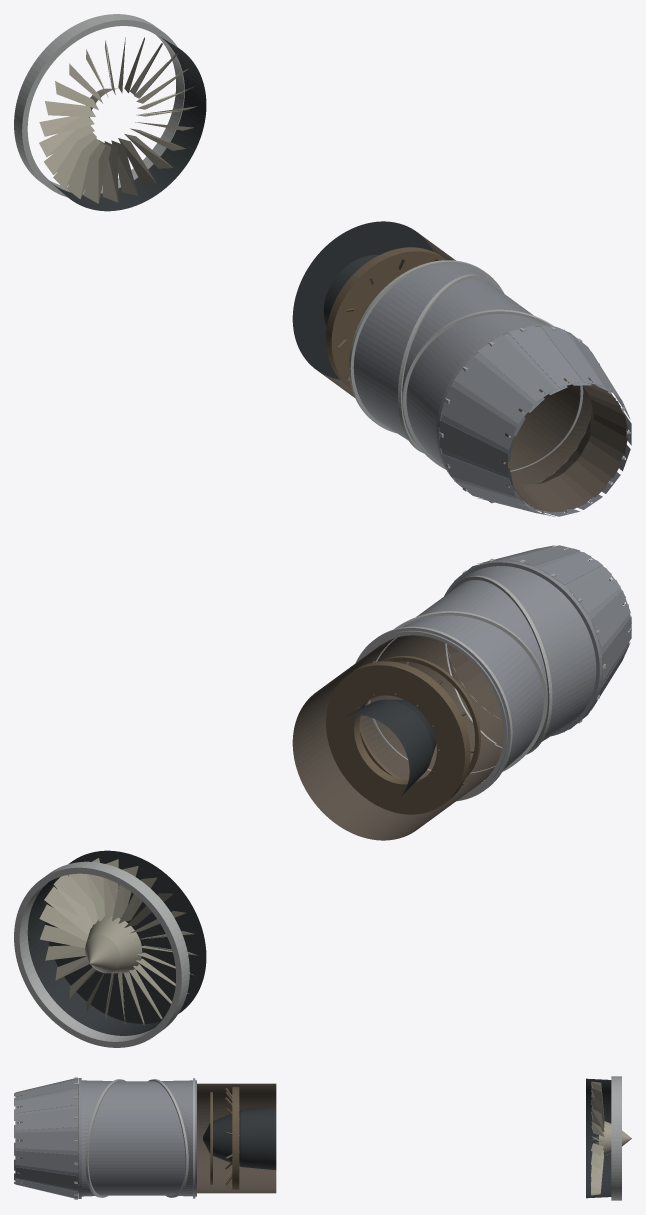
Rendered from F135-PW-600-installed.glb.
3 renders of one model, top to bottom at view 1: azimuth 30°, elevation 25°; view 2: azimuth 150°, elevation 25°; view 3: azimuth 270°, elevation 25°, orthographic. The views are drawn at different scales.
Parts seen in each view (by area): view 1: F135_FanFace, F135_ForwardSwivelShell, F135_Centerbody, F135_AftSwivelShell, F135_InletLip, F135_CoreFacingAnnulus, F135_IntakeOccluder, F135_MiddleLiner, F135_MiddleSwivelShell, F135_ForwardBearingRings, F135_Fairing_07_Metal, F135_Fairing_08_Metal (+10 smaller); view 2: F135_CoreFacingAnnulus, F135_IntakeOccluder, F135_FanFace, F135_AugmentorLiner, F135_AftSwivelShell, F135_InletLip, F135_ForwardSwivelShell, F135_ForwardBearingRings, F135_MiddleLiner, F135_MiddleSwivelShell, F135_Centerbody, F135_ForwardLiner (+8 smaller); view 3: F135_MiddleSwivelShell, F135_AugmentorLiner, F135_Centerbody, F135_FanFace, F135_IntakeOccluder, F135_ForwardSwivelShell, F135_InletLip, F135_CoreFacingAnnulus, F135_AftSwivelShell, F135_Fairing_02_Metal, F135_Fairing_03_Metal, F135_Fairing_01_Metal (+11 smaller).
Part boxes in pixels (box(x1,y1,x2,y2)): F135_FanFace: box(39, 37, 196, 203); F135_ForwardSwivelShell: box(353, 264, 485, 440); F135_Centerbody: box(292, 221, 433, 379); F135_AftSwivelShell: box(406, 314, 544, 467); F135_InletLip: box(14, 14, 184, 197); F135_CoreFacingAnnulus: box(326, 247, 446, 389); F135_IntakeOccluder: box(51, 36, 206, 211); F135_MiddleLiner: box(508, 384, 580, 470); F135_MiddleSwivelShell: box(402, 278, 533, 445); F135_ForwardBearingRings: box(349, 260, 504, 453); F135_Fairing_07_Metal: box(454, 356, 533, 423); F135_Fairing_08_Metal: box(440, 386, 516, 449); F135_CoreFacingAnnulus: box(326, 656, 480, 814); F135_IntakeOccluder: box(27, 850, 206, 1035); F135_FanFace: box(39, 858, 197, 1025); F135_AugmentorLiner: box(292, 649, 474, 840); F135_AftSwivelShell: box(463, 566, 596, 741); F135_InletLip: box(14, 861, 189, 1047); F135_ForwardSwivelShell: box(383, 615, 543, 780); F135_ForwardBearingRings: box(356, 611, 547, 801); F135_MiddleLiner: box(370, 635, 501, 772); F135_MiddleSwivelShell: box(416, 580, 547, 747); F135_Centerbody: box(345, 699, 436, 795); F135_ForwardLiner: box(360, 638, 494, 794); F135_MiddleSwivelShell: box(88, 1081, 185, 1195); F135_AugmentorLiner: box(197, 1083, 276, 1193); F135_Centerbody: box(203, 1106, 276, 1170); F135_FanFace: box(591, 1081, 631, 1195); F135_IntakeOccluder: box(586, 1078, 611, 1198); F135_ForwardSwivelShell: box(161, 1080, 196, 1196); F135_InletLip: box(611, 1076, 621, 1200); F135_CoreFacingAnnulus: box(210, 1087, 239, 1189); F135_AftSwivelShell: box(81, 1080, 112, 1196); F135_Fairing_02_Metal: box(15, 1131, 77, 1150); F135_Fairing_03_Metal: box(15, 1108, 77, 1129); F135_Fairing_01_Metal: box(15, 1150, 77, 1172).
Size of the model in its own units: 1.13 by 1.13 by 5.63.
